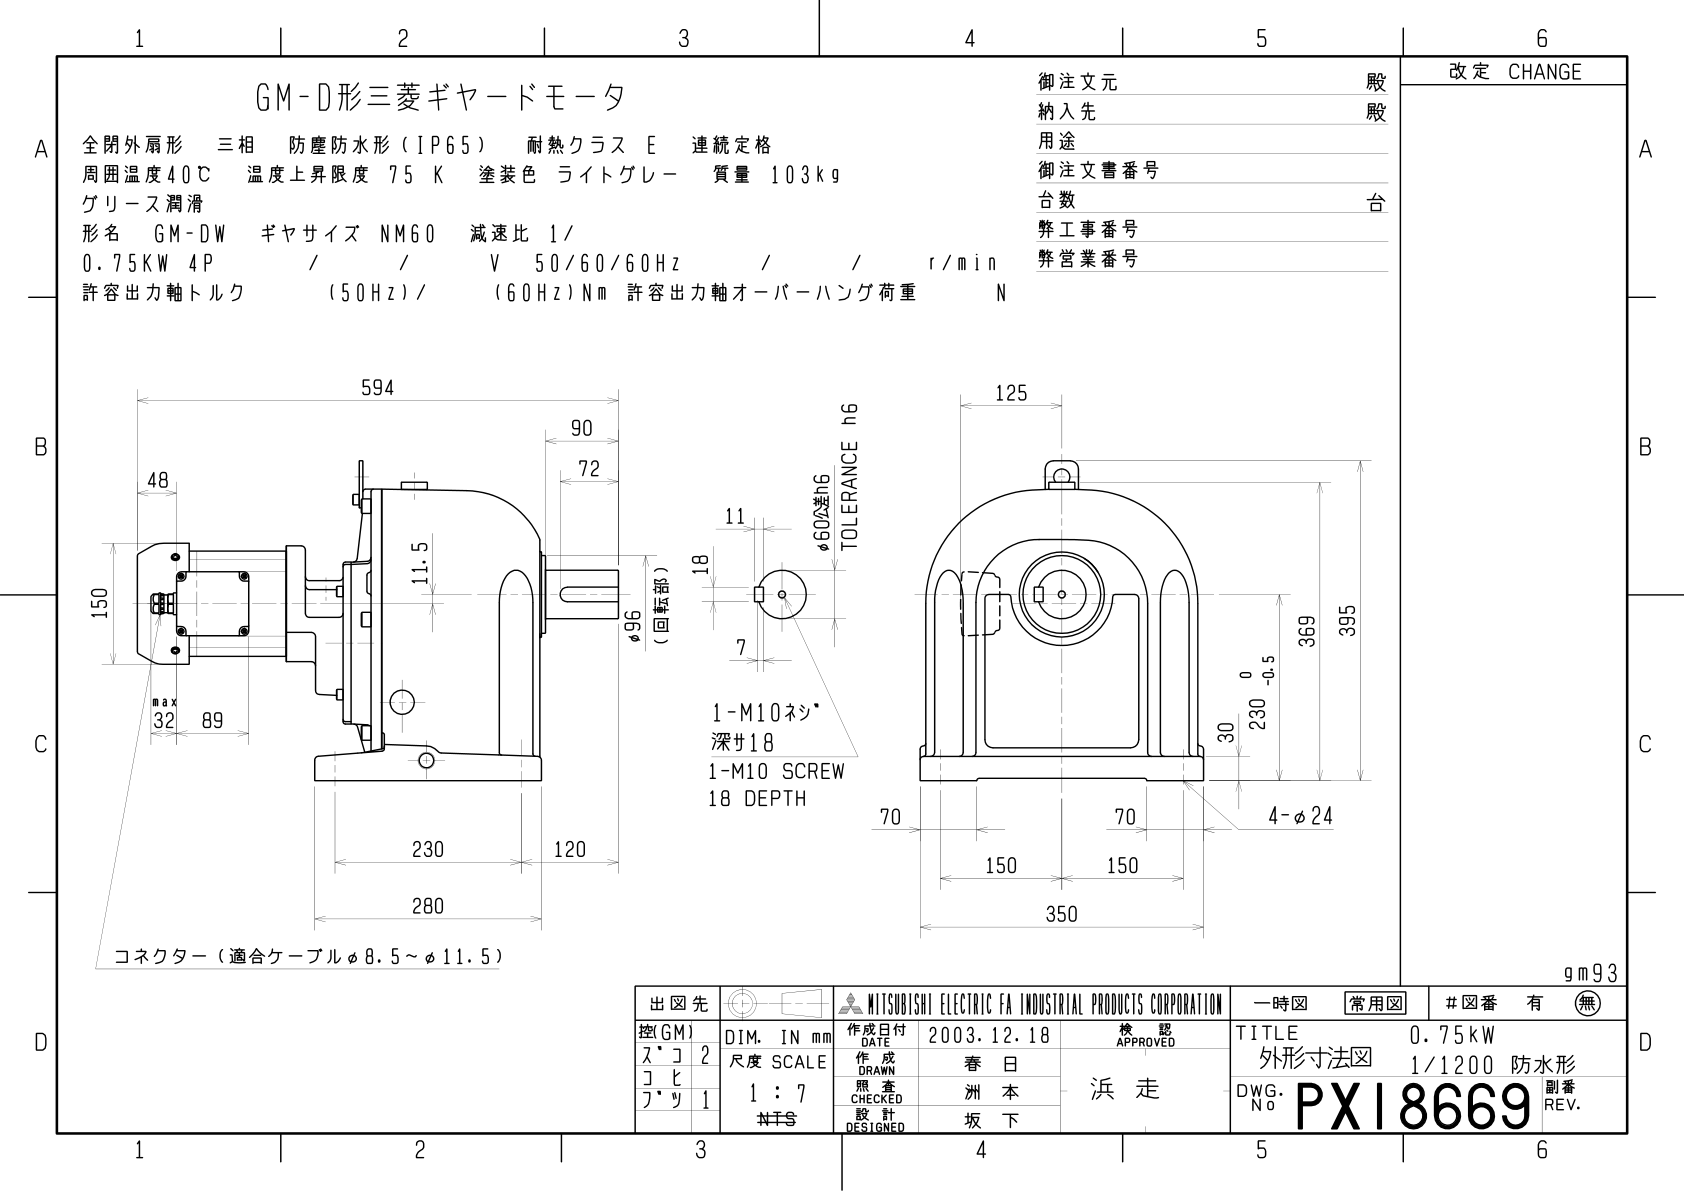GM_D_IP65_三相_脚: (61, 347, 1392, 973)
